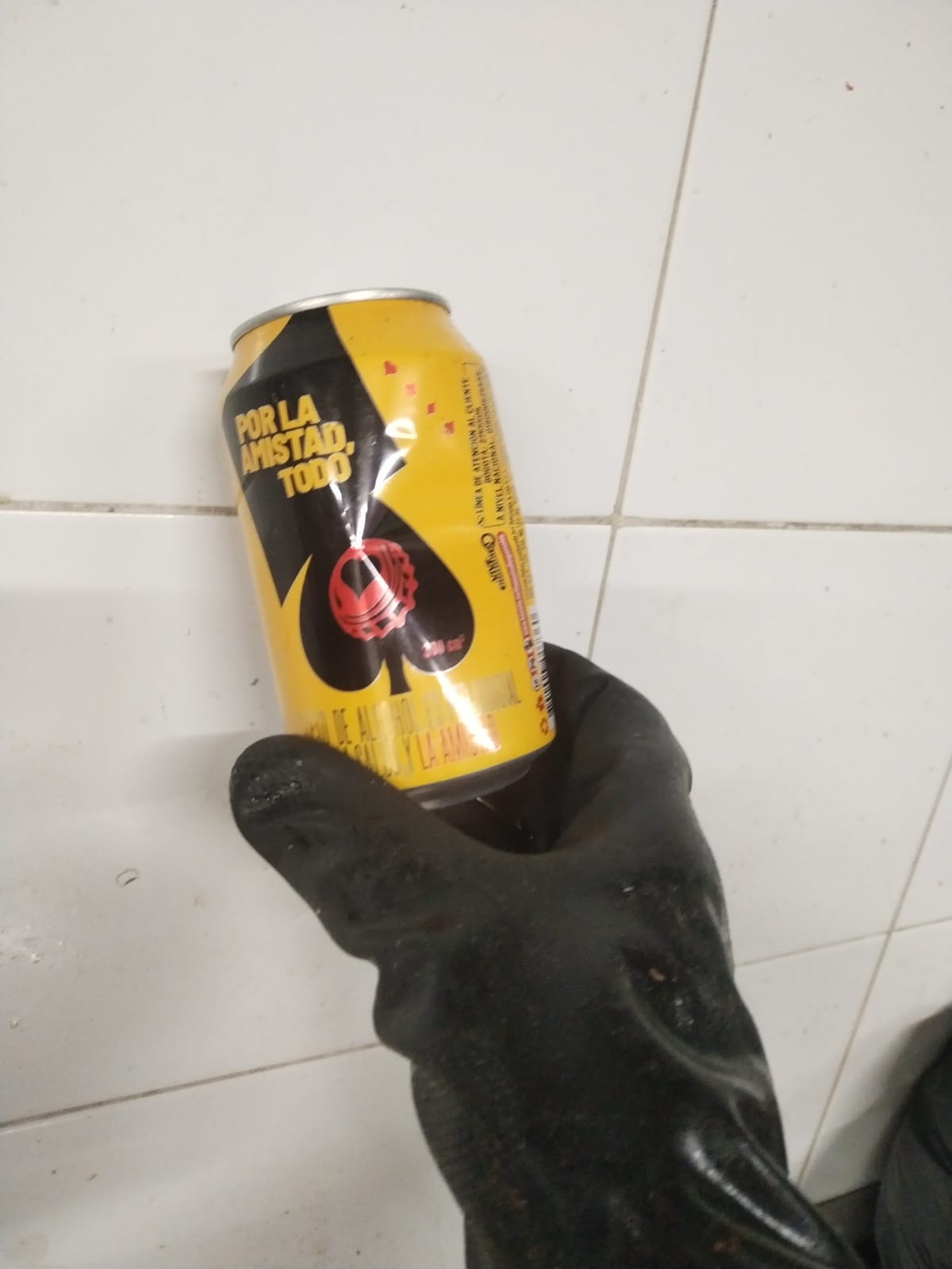Metal: (214, 294, 557, 809)
